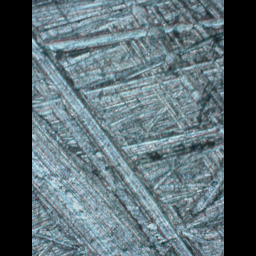d: (32, 37, 176, 256), (105, 4, 223, 168)
